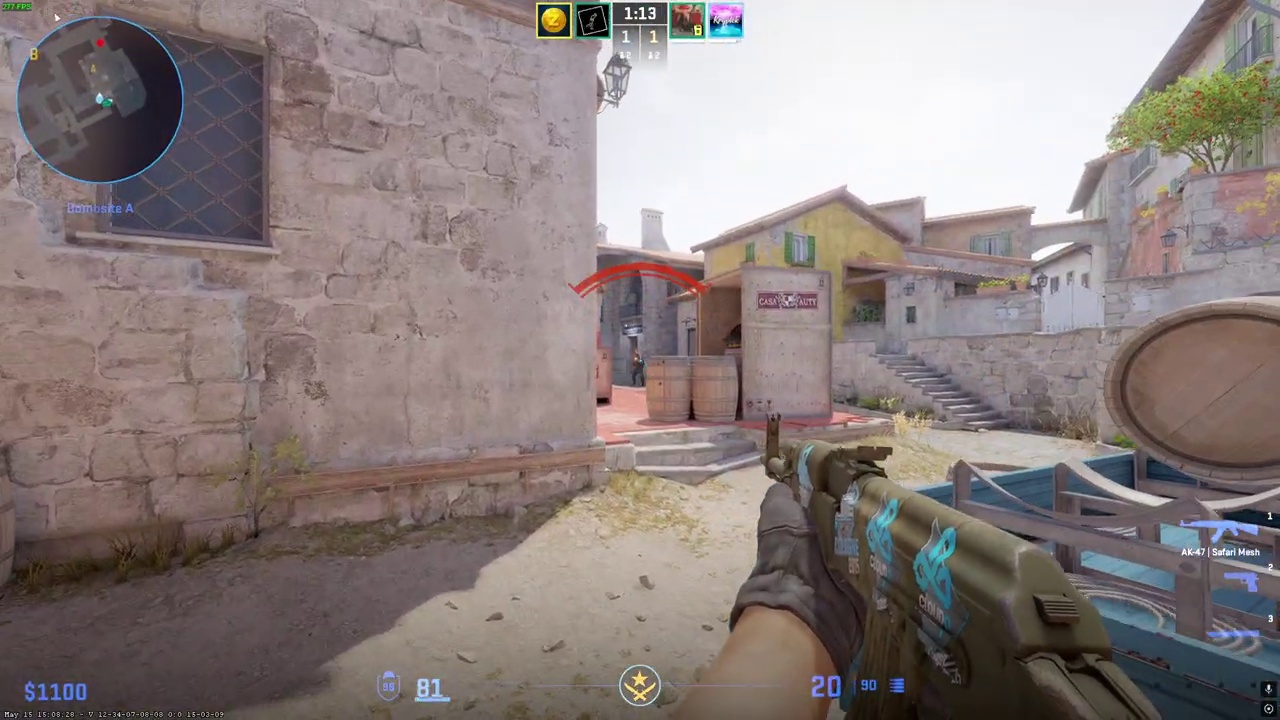CT: (630, 353, 645, 387)
